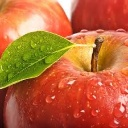apple: (1, 29, 128, 128)
